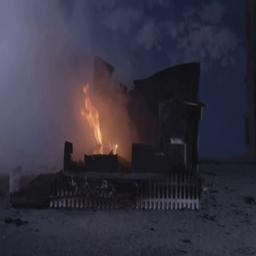fire: (69, 76, 123, 166)
smoke: (0, 0, 102, 97)
